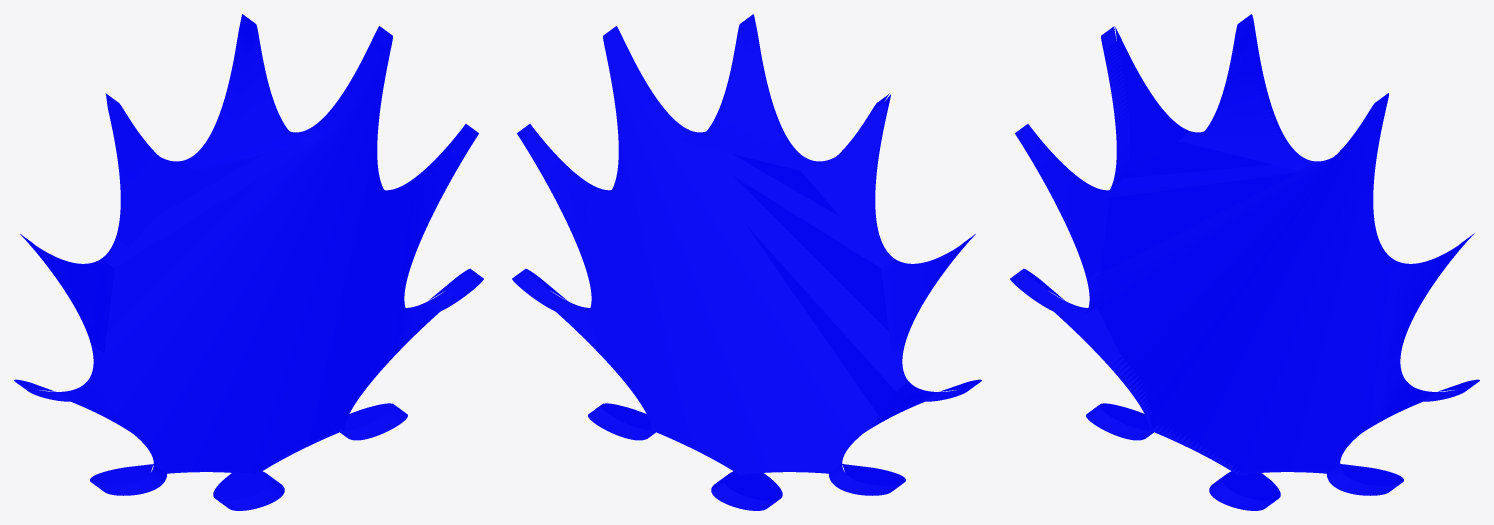
The picture shows the model from 3 angles, left to right: view 1: azimuth 30°, elevation 25°; view 2: azimuth 150°, elevation 25°; view 3: azimuth 330°, elevation 25°; orthographic projection.
Bounding box in the file's own units: 0.9852 × 1 × 0.05.
